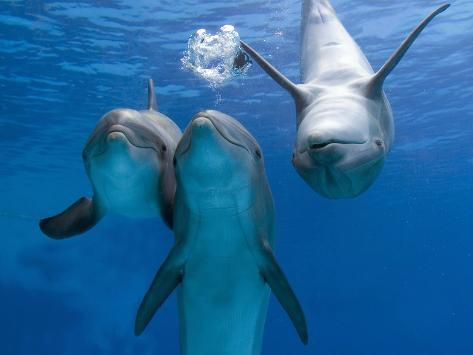dolphin: (235, 1, 450, 202), (161, 105, 306, 353), (40, 85, 188, 233)
